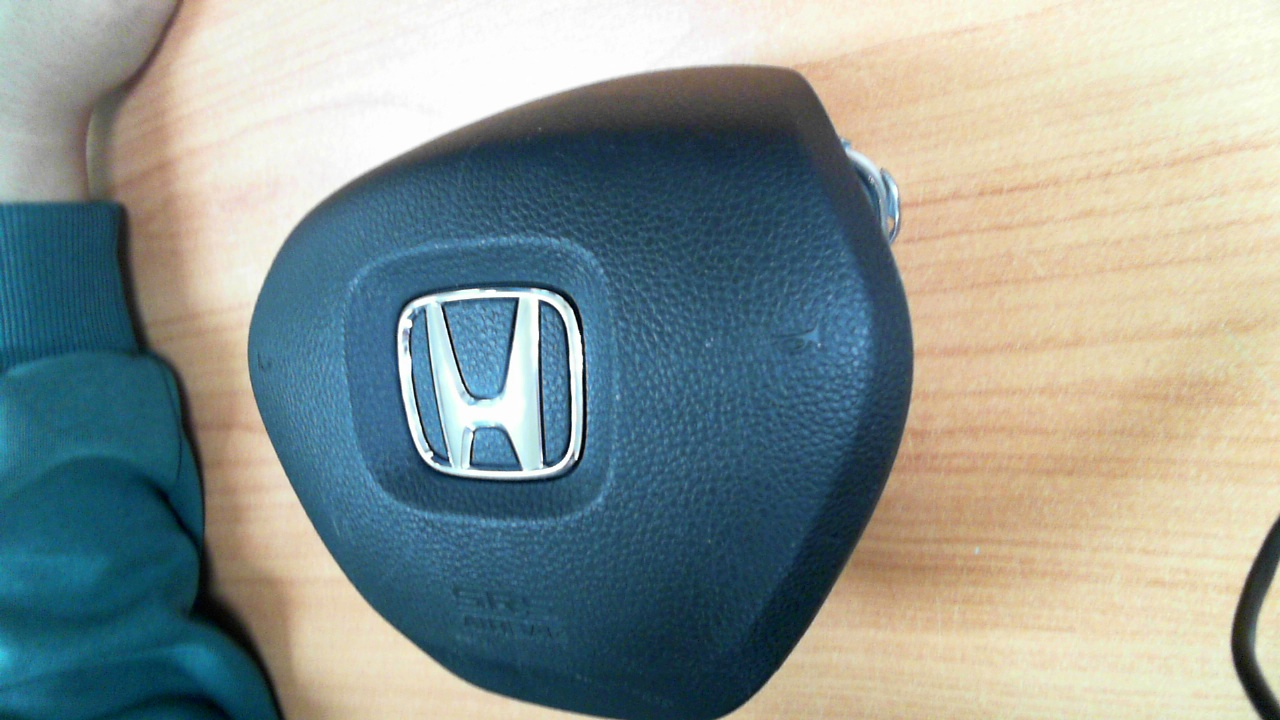Airbag: (247, 64, 914, 720)
Honda: (396, 287, 588, 481)
